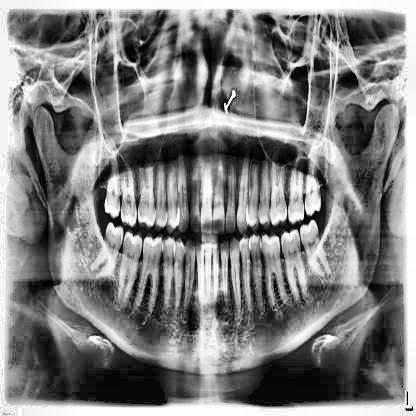Mandible: (33, 103, 400, 377)
Maxilla: (98, 146, 324, 237)
